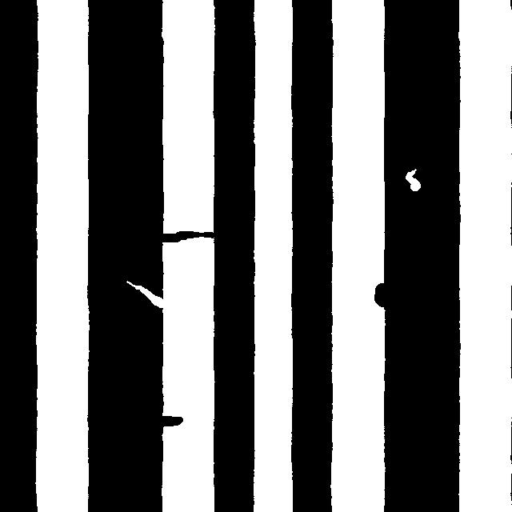mousebite: (118, 273, 174, 315)
pin-hole: (398, 161, 428, 198)
short: (150, 223, 222, 250)
spur: (143, 406, 190, 434), (366, 275, 398, 314)
